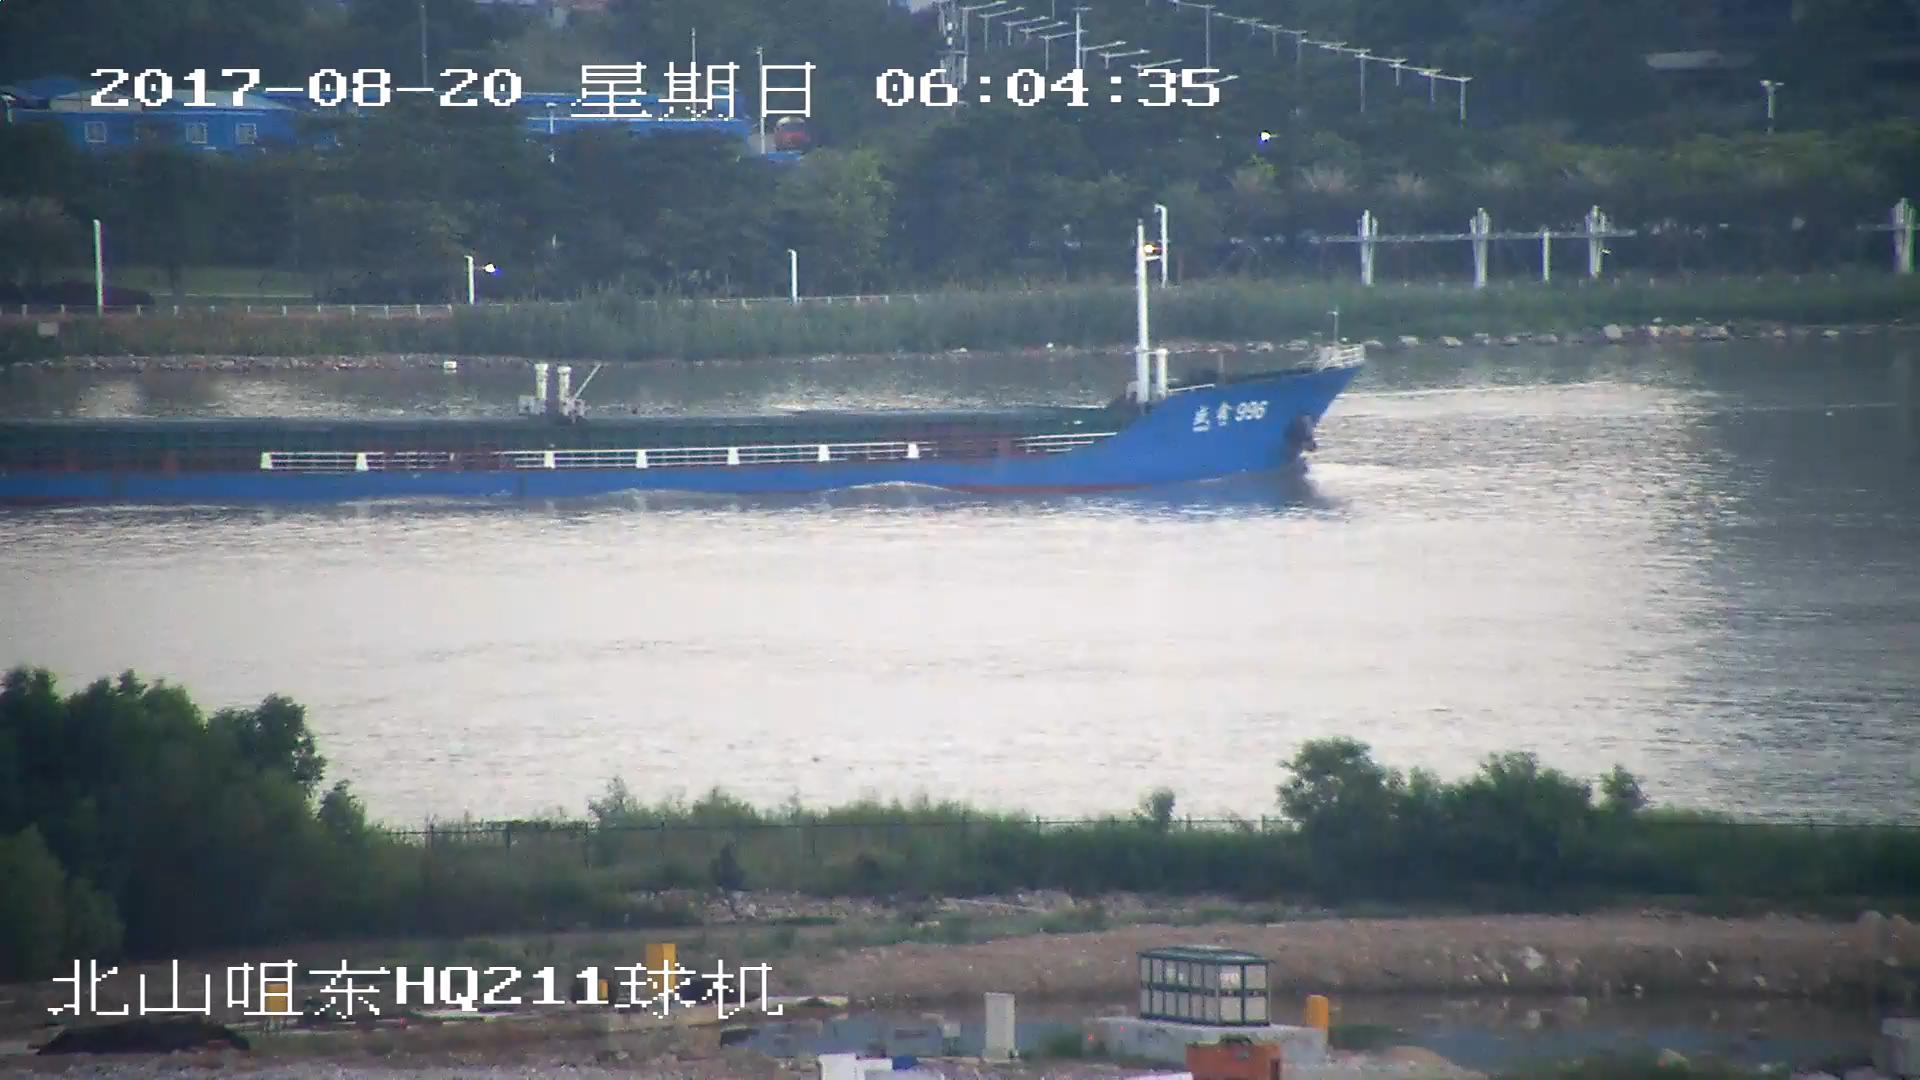Ship: (3, 270, 1354, 512)
